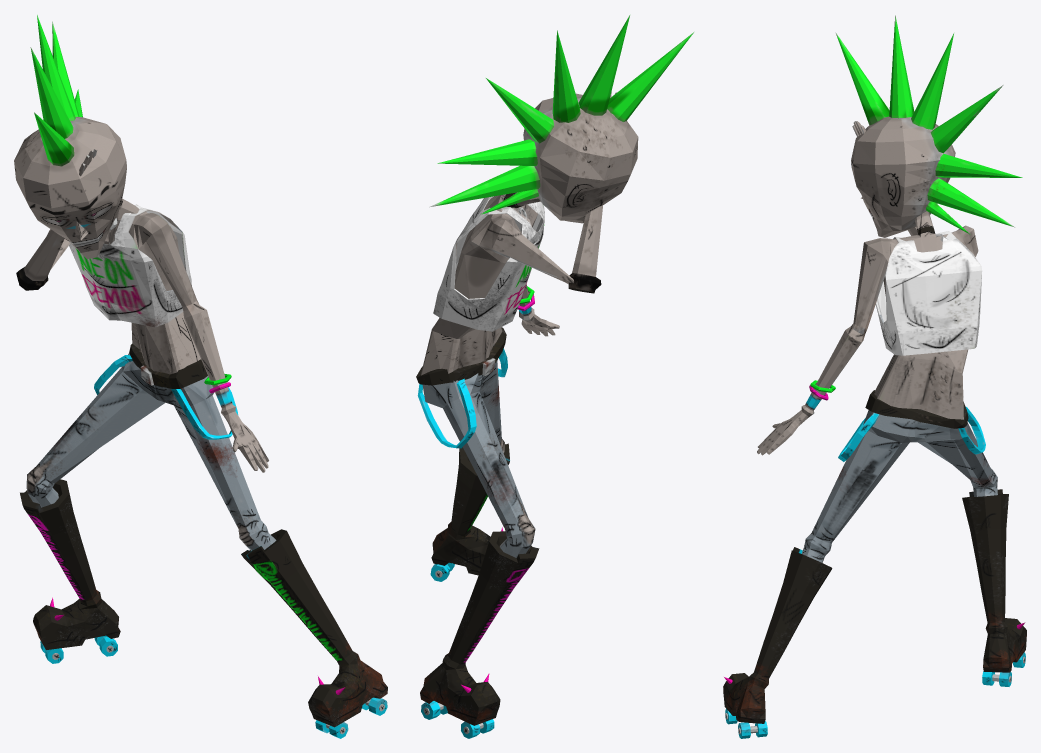
The model's file is punkAnimation_000029.obj.
The picture shows the model from 3 angles, left to right: view 1: azimuth 30°, elevation 25°; view 2: azimuth 150°, elevation 25°; view 3: azimuth 270°, elevation 25°; orthographic projection. The views are drawn at different scales.
Parts seen in each view (by area): view 1: Cube.004_Cube.003; view 2: Cube.004_Cube.003; view 3: Cube.004_Cube.003.
Part boxes in pixels (x1,y1,x2,y2): Cube.004_Cube.003: (14, 15, 387, 738); Cube.004_Cube.003: (416, 15, 693, 738); Cube.004_Cube.003: (723, 15, 1026, 738).
Size of the model in its own units: 3.13 by 6.72 by 3.01.
